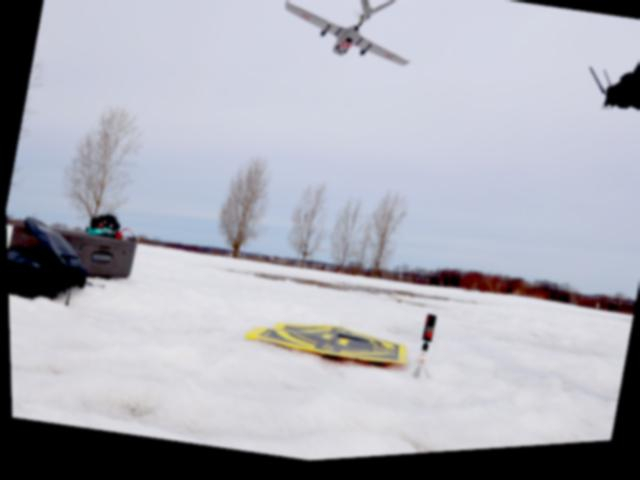plane: (273, 0, 424, 83)
